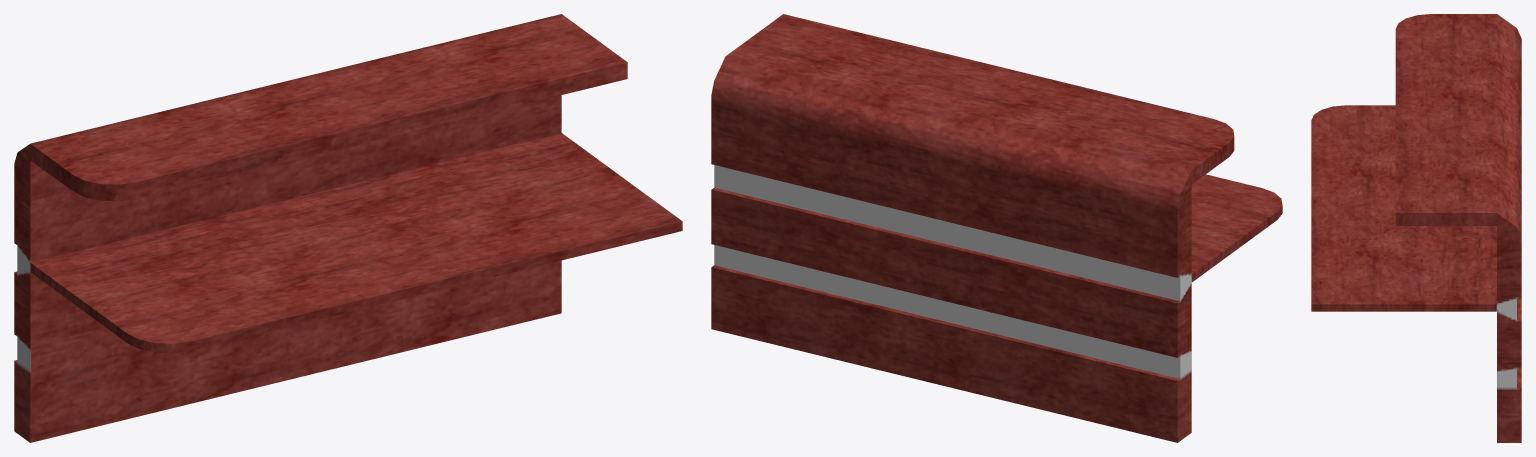
The model's file is ReceptionDesk_Straight_End_Left.glb.
The picture shows the model from 3 angles, left to right: view 1: azimuth 30°, elevation 25°; view 2: azimuth 150°, elevation 25°; view 3: azimuth 270°, elevation 25°; orthographic projection. The views are drawn at different scales.
Visible parts, largest first — view 1: LeftStraightEnd; view 2: LeftStraightEnd; view 3: LeftStraightEnd.
Part boxes in pixels (x1=…): LeftStraightEnd: x1=14, y1=14, x2=682, y2=442; LeftStraightEnd: x1=711, y1=14, x2=1282, y2=442; LeftStraightEnd: x1=1311, y1=14, x2=1521, y2=442.
Size of the model in its own units: 2 by 1.08 by 0.8926.
1 material, 1 textured.
